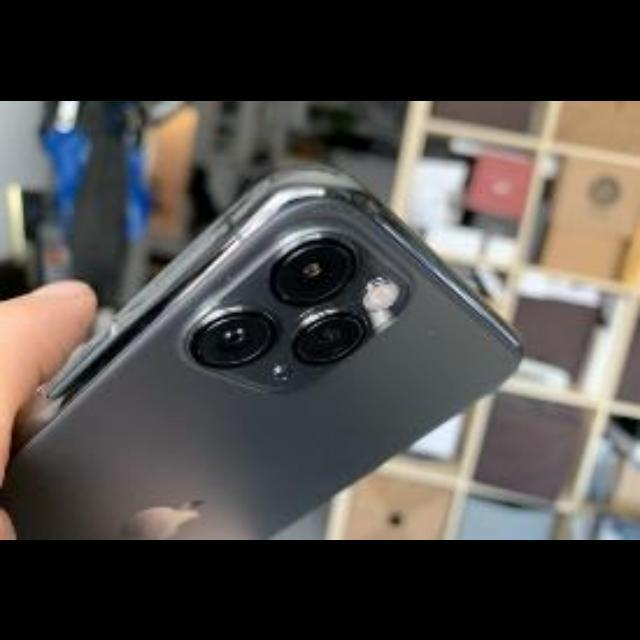Phone: (0, 154, 523, 539)
